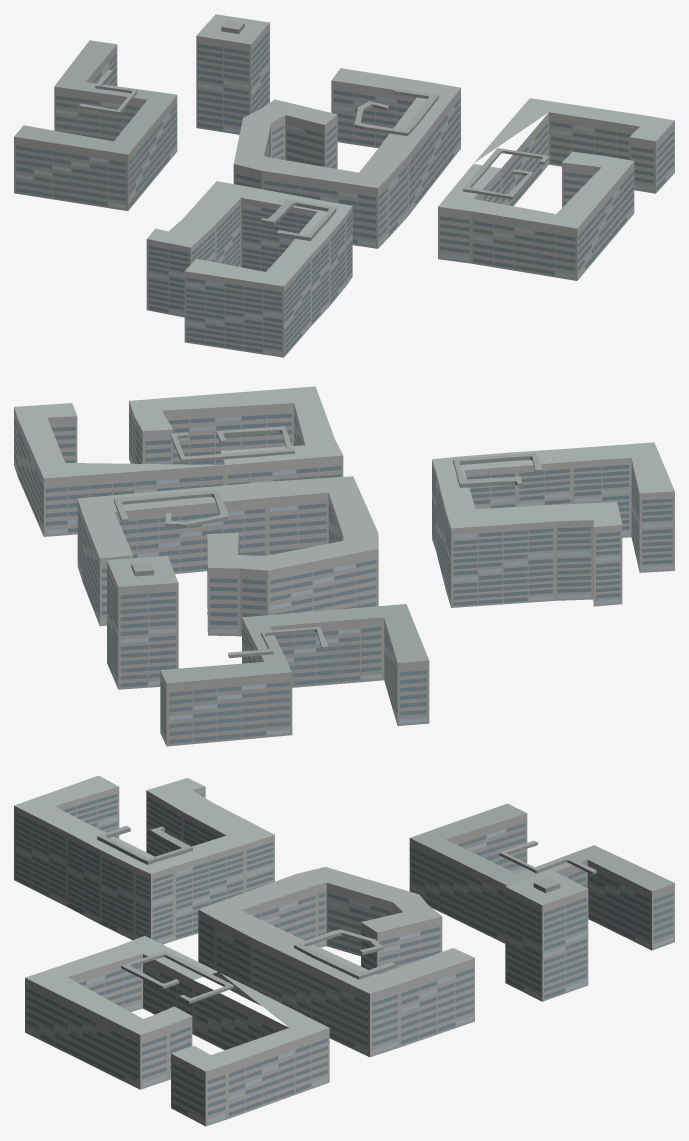
The model's file is apt-a12220003.glb.
3 views of the same model, one above another, from view 1: azimuth 30°, elevation 25°; view 2: azimuth 150°, elevation 25°; view 3: azimuth 270°, elevation 25° (orthographic). The views are drawn at different scales.
Visible parts, largest first — view 1: apt-a12220003; view 2: apt-a12220003; view 3: apt-a12220003.
Boxes of the visible parts, x1,y1,x2,y2 form: apt-a12220003: [14, 14, 674, 357]; apt-a12220003: [14, 386, 674, 746]; apt-a12220003: [14, 775, 674, 1126].
Size of the model in its own units: 258 by 44 by 261.
